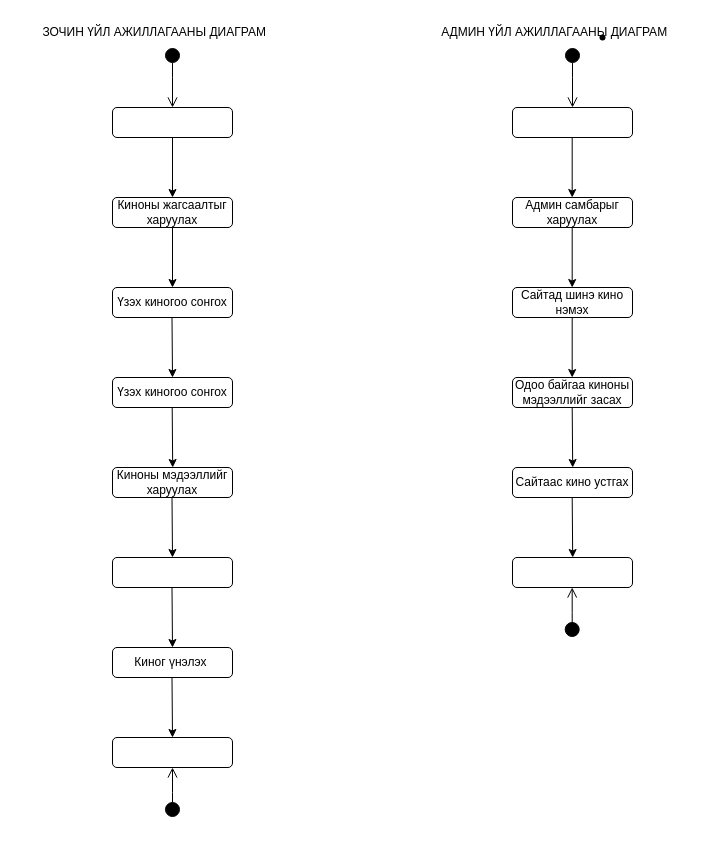
This 709x845 diagram has some shape labels left out. The shapes that lost their labels are listed below. From the top down, each one's box as (x1, y1, x2, y2) in pixels, then its label:
(112, 106, 232, 138): Сайтыг эхлүүлэх
(512, 106, 632, 138): Нэвтрэх
(112, 556, 232, 588): Киног дамжуулах
(512, 556, 632, 588): Дуусгах
(112, 736, 232, 768): Сайтыг дуусгах
